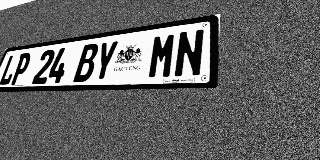2: (32, 49, 56, 84)
4: (46, 47, 72, 83)
B: (73, 43, 100, 82)
L: (0, 54, 21, 85)
M: (147, 32, 177, 79)
N: (173, 28, 205, 78)
P: (9, 52, 33, 85)
Y: (91, 40, 119, 82)
